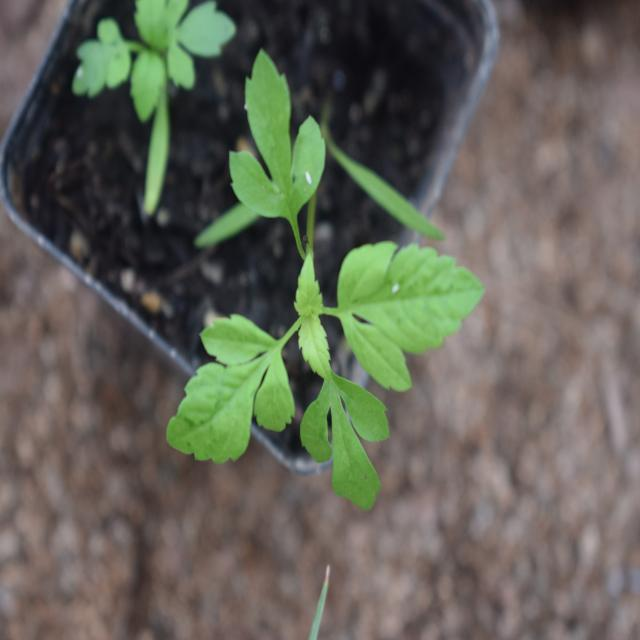Bidens pilosa: (156, 50, 454, 506)
